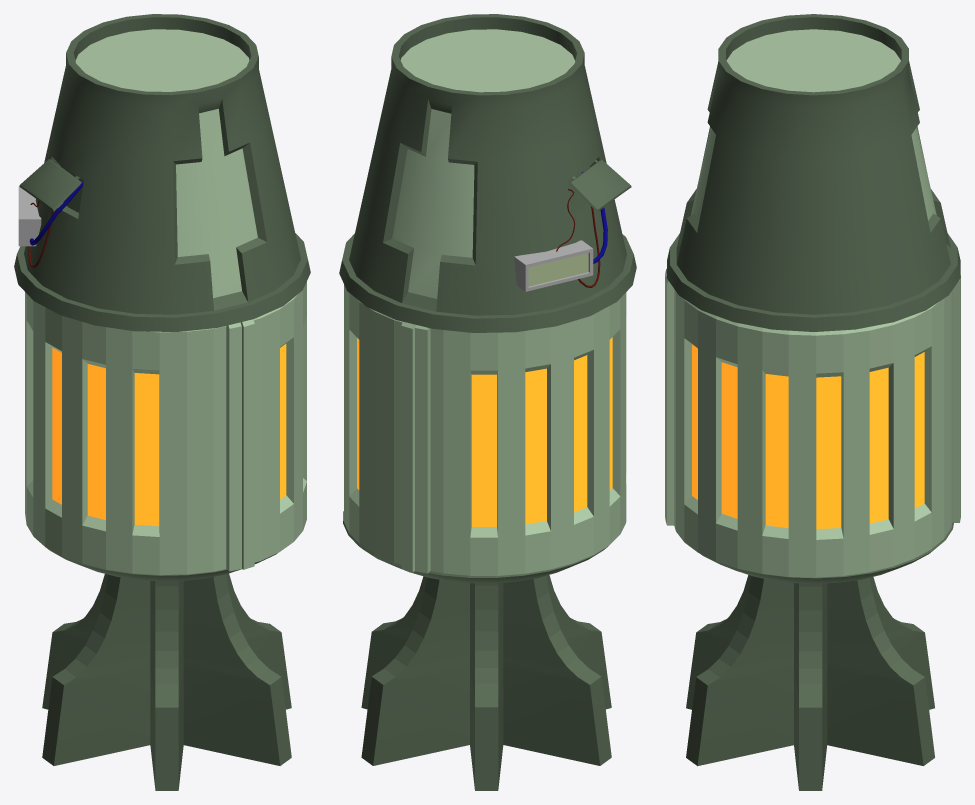
The model's file is Bomb.fbx.
3 views of the same model, side by side, from view 1: azimuth 30°, elevation 25°; view 2: azimuth 150°, elevation 25°; view 3: azimuth 270°, elevation 25° (orthographic).
Parts seen in each view (by area): view 1: BombCore, BombShell002, BombStand, BombShell1, BombHatch, BombTimer, BombBottom; view 2: BombCore, BombShell002, BombStand, BombShell1, BombTimer, BombHatch, BombBottom; view 3: BombShell1, BombCore, BombStand, BombBottom.
Part boxes in pixels (<box>): BombCore: <box>14,14,310,331</box>; BombShell002: <box>25,292,241,574</box>; BombStand: <box>42,573,291,790</box>; BombShell1: <box>240,282,306,569</box>; BombHatch: <box>19,159,81,211</box>; BombTimer: <box>18,186,41,246</box>; BombBottom: <box>29,529,277,581</box>; BombCore: <box>339,14,636,332</box>; BombShell002: <box>415,292,626,575</box>; BombStand: <box>361,575,611,790</box>; BombShell1: <box>344,284,415,572</box>; BombTimer: <box>514,240,593,291</box>; BombHatch: <box>568,159,631,211</box>; BombBottom: <box>343,511,608,583</box>; BombShell1: <box>665,275,960,577</box>; BombCore: <box>667,14,960,331</box>; BombStand: <box>686,575,934,790</box>; BombBottom: <box>701,522,953,583</box>.
Size of the model in its own units: 68.77 by 173 by 68.48.
